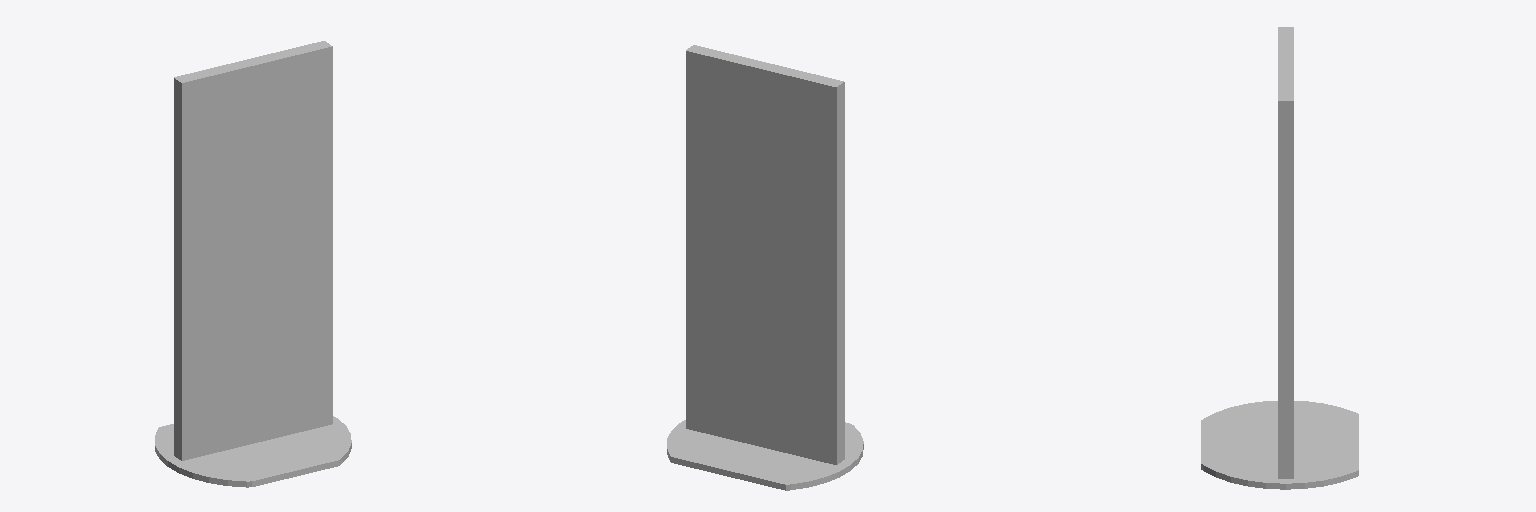
The model's file is col.obj.
The picture shows the model from 3 angles: view 1: azimuth 30°, elevation 25°; view 2: azimuth 150°, elevation 25°; view 3: azimuth 270°, elevation 25°; orthographic projection.
Parts seen in each view (by area): view 1: Cube, Cylinder.001; view 2: Cube, Cylinder.001; view 3: Cylinder.001, Cube.
Boxes of the visible parts, x1,y1,x2,y2 form: Cube: [174, 41, 332, 460]; Cylinder.001: [155, 416, 351, 487]; Cube: [686, 45, 844, 464]; Cylinder.001: [667, 420, 863, 490]; Cylinder.001: [1201, 401, 1358, 489]; Cube: [1278, 27, 1293, 478].
Bounding box in the file's own units: 0.9329 × 2 × 0.7442.